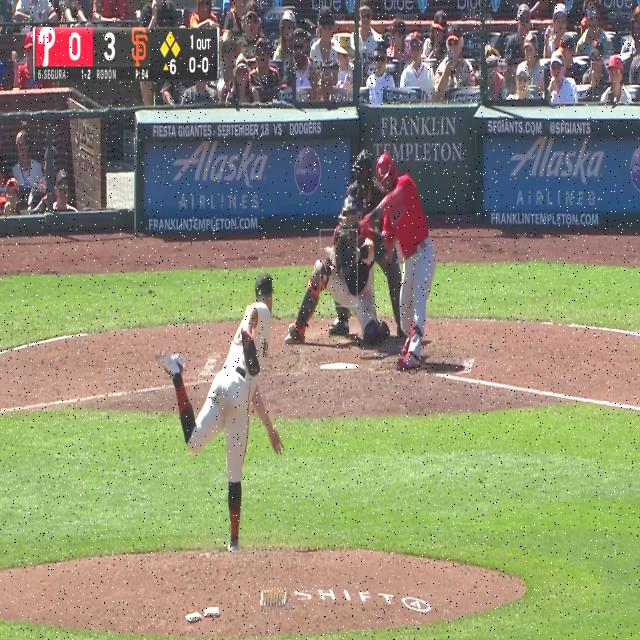baseball: (324, 246, 332, 255)
